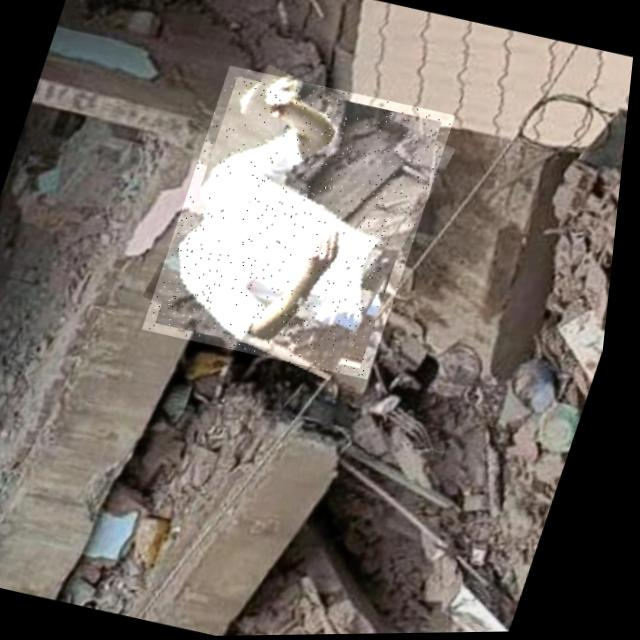Person in Rubble: (144, 63, 462, 382)
